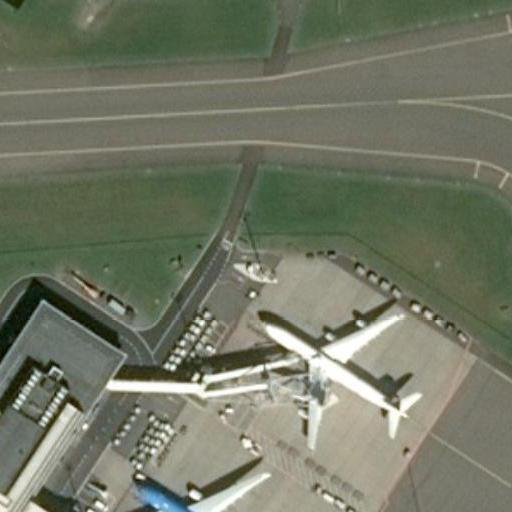Aircraft: (230, 292, 421, 445), (119, 464, 290, 512)
